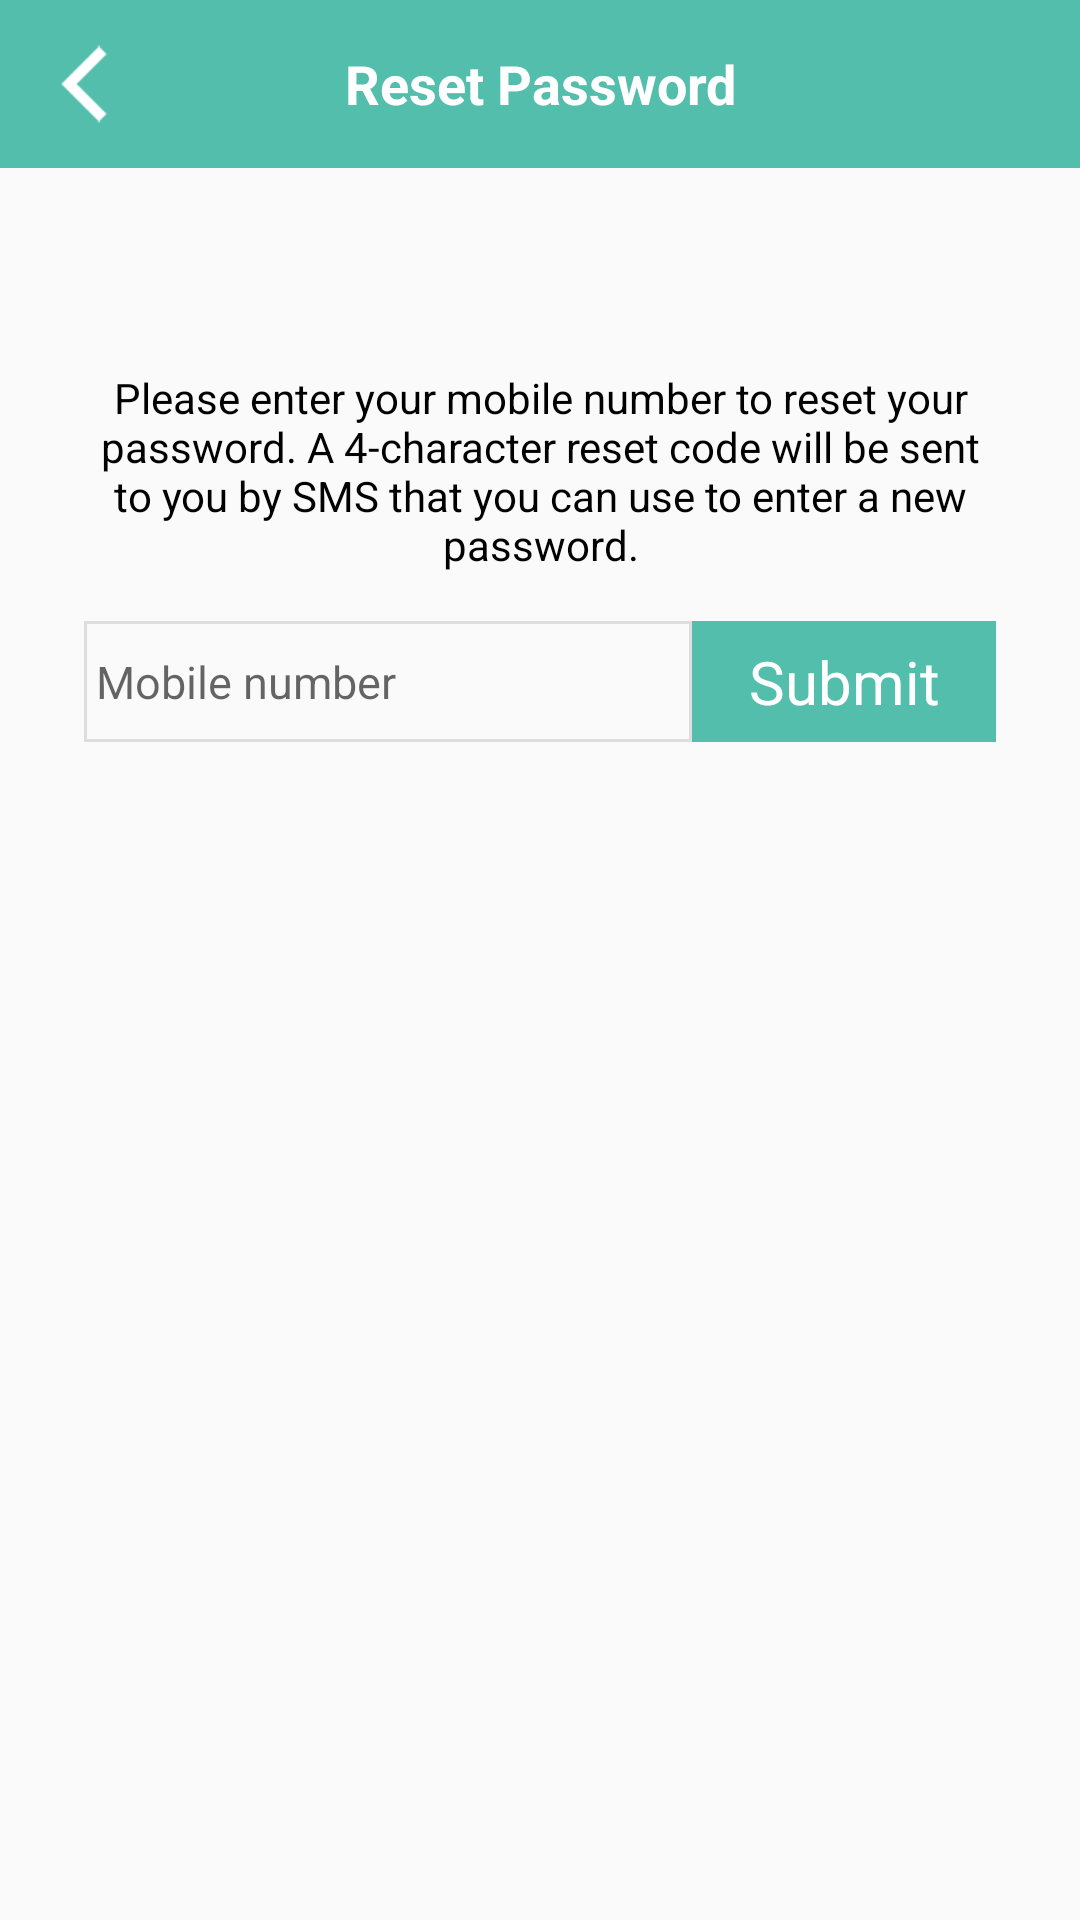

Screen size 1080px×1920px. Icon name, then its center in pixels as point (x, y):
back arrow: point (84, 84)
